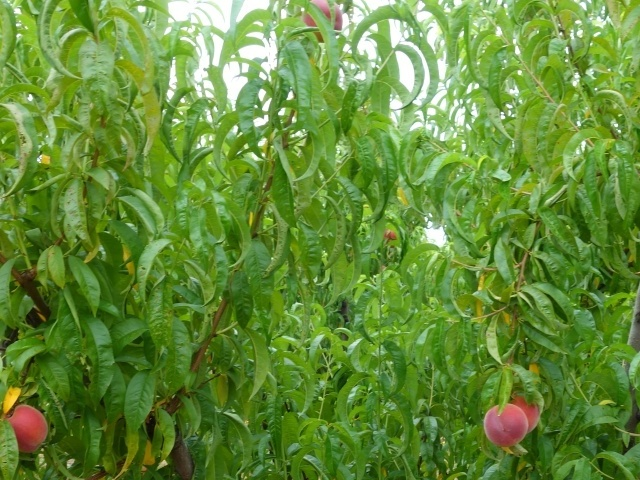peach: (2, 400, 52, 459), (478, 404, 531, 453), (295, 1, 345, 43), (511, 385, 546, 435)
